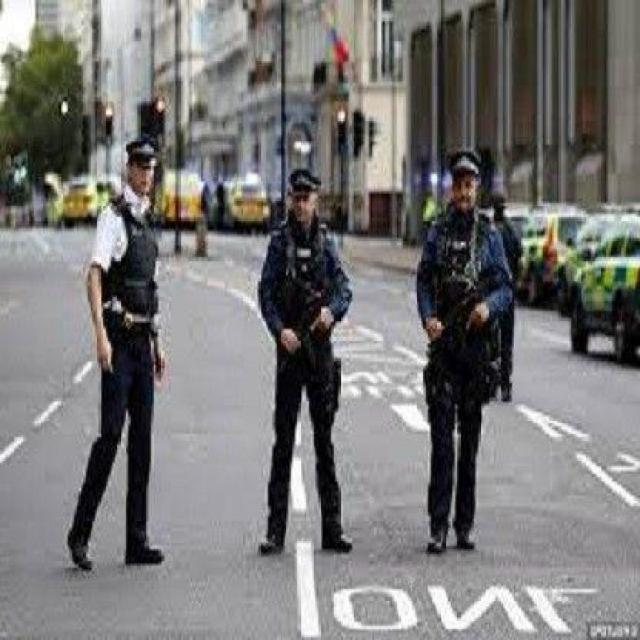Person: (70, 138, 173, 574), (417, 149, 509, 554), (259, 159, 352, 553)
